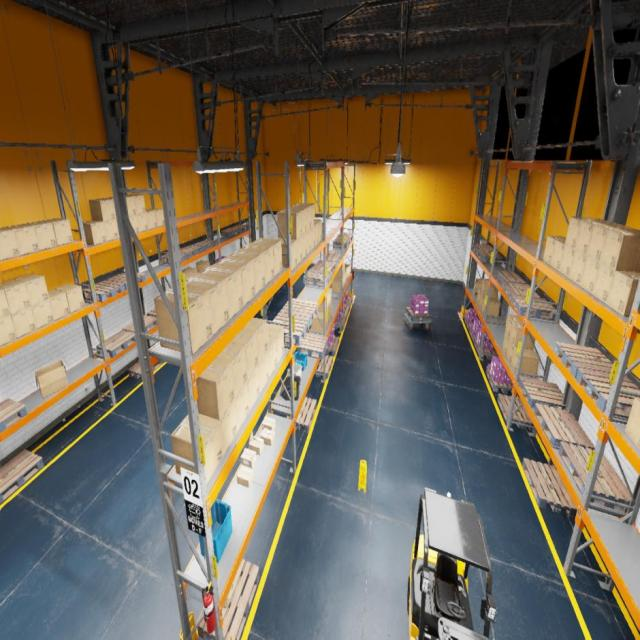box: (155, 286, 213, 354), (171, 413, 223, 485), (185, 273, 230, 336), (198, 264, 243, 320), (196, 359, 234, 420), (214, 256, 254, 306), (587, 225, 640, 262), (228, 249, 266, 295), (216, 342, 247, 398), (575, 221, 626, 255), (600, 230, 640, 272), (607, 270, 640, 317), (565, 217, 611, 250), (230, 329, 258, 379), (241, 243, 274, 285), (35, 359, 68, 398), (251, 238, 282, 276), (2, 224, 40, 255), (243, 318, 268, 364), (14, 274, 49, 306), (0, 280, 31, 313), (23, 221, 57, 250), (220, 400, 237, 456), (592, 264, 615, 304), (512, 346, 540, 378), (41, 218, 73, 246), (55, 284, 85, 312), (11, 306, 36, 338), (625, 398, 640, 449), (277, 210, 302, 240), (580, 257, 600, 294), (509, 321, 535, 349), (235, 381, 249, 432), (276, 238, 297, 271), (267, 324, 284, 364), (544, 235, 566, 265), (48, 290, 70, 320), (0, 227, 20, 260), (31, 300, 54, 328), (569, 251, 586, 286), (284, 208, 306, 235), (83, 220, 107, 244), (89, 199, 115, 221), (248, 364, 260, 411), (290, 205, 311, 231), (294, 203, 315, 228), (0, 314, 16, 345), (551, 240, 566, 271), (560, 245, 574, 278), (259, 350, 269, 393), (505, 314, 522, 338), (481, 297, 500, 318), (125, 195, 146, 214), (248, 431, 264, 455), (146, 208, 164, 228), (237, 466, 253, 488), (311, 312, 327, 334), (480, 279, 498, 298), (268, 336, 276, 378), (104, 219, 119, 241), (240, 448, 256, 468), (0, 289, 10, 318), (479, 293, 496, 310), (104, 196, 116, 218), (261, 428, 275, 446), (318, 292, 329, 313), (126, 195, 136, 216), (137, 213, 148, 232), (502, 332, 510, 356), (146, 210, 156, 229), (129, 214, 139, 233), (332, 277, 343, 294), (262, 417, 276, 430), (507, 339, 514, 364), (196, 260, 210, 272), (306, 228, 312, 254), (315, 220, 322, 242), (297, 236, 302, 265), (474, 278, 482, 296), (302, 232, 307, 260), (336, 275, 344, 290), (336, 262, 344, 277), (183, 268, 198, 276), (326, 288, 332, 307), (476, 288, 482, 306), (182, 270, 192, 280), (315, 222, 319, 246), (311, 226, 315, 250), (344, 264, 350, 279), (116, 218, 120, 238), (329, 304, 332, 322), (327, 309, 329, 328), (344, 272, 346, 287)
forklift: (407, 488, 497, 640)
pallets: (558, 441, 631, 512), (197, 559, 259, 639), (522, 458, 578, 518), (576, 368, 640, 418), (534, 403, 594, 454), (0, 449, 44, 504), (554, 342, 613, 378), (518, 377, 567, 409), (498, 394, 534, 431), (270, 313, 310, 345), (510, 294, 556, 321), (96, 330, 135, 358), (280, 298, 318, 326), (286, 398, 316, 433), (82, 280, 126, 302), (486, 366, 518, 396), (0, 398, 27, 433), (298, 333, 328, 359), (107, 272, 146, 291), (502, 282, 540, 300), (128, 361, 163, 380), (122, 315, 157, 332), (474, 338, 498, 360), (304, 269, 332, 287), (496, 270, 526, 285), (315, 354, 333, 378), (477, 250, 503, 264), (312, 260, 336, 273), (162, 252, 190, 263), (180, 245, 202, 258), (406, 308, 429, 320), (326, 336, 339, 356), (326, 252, 341, 267), (472, 244, 494, 254), (194, 240, 215, 250), (334, 314, 346, 331), (333, 237, 351, 248), (221, 228, 240, 237), (337, 232, 353, 242), (468, 326, 476, 343), (231, 224, 248, 232), (464, 315, 472, 330), (342, 305, 350, 319), (345, 297, 352, 310), (147, 308, 156, 318)
